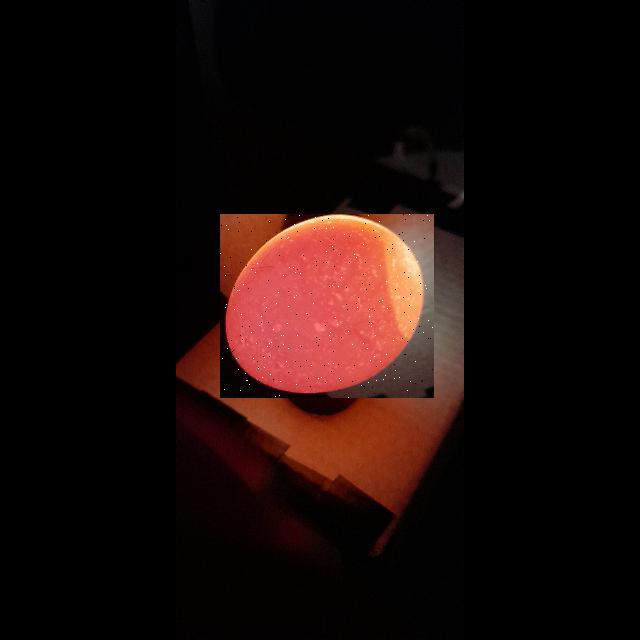Fertile: (220, 214, 434, 398)
